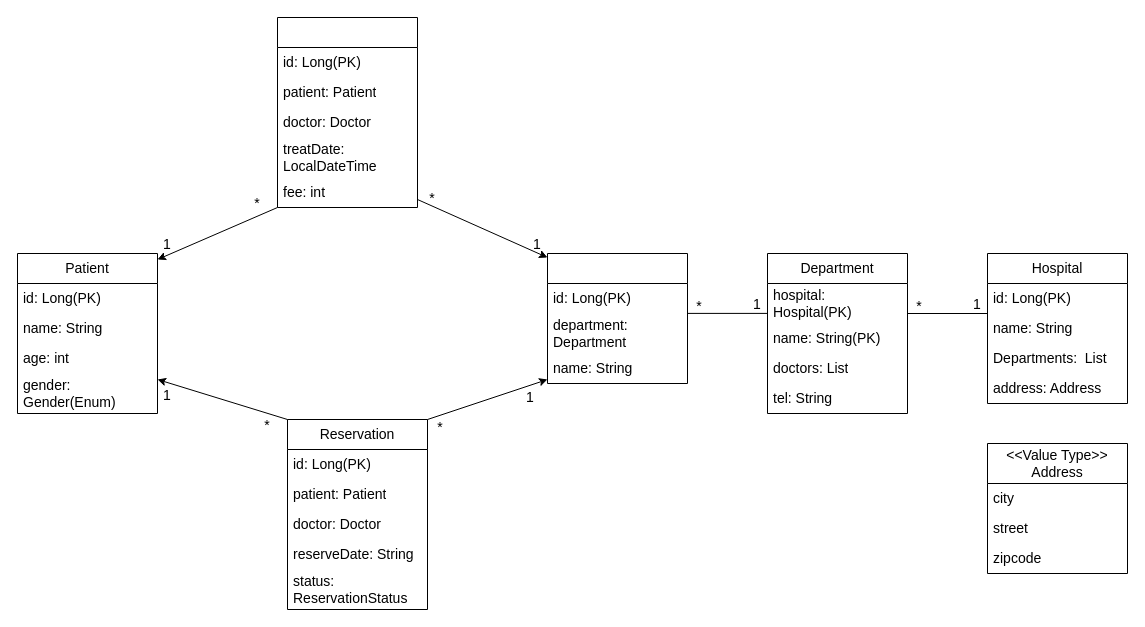
This 1145x627 diagram has some shape labels left out. Here are the shapes that lost their labels. From the top down, the box of each, then its label:
(276, 16, 418, 208): Treatment
(546, 252, 688, 384): Doctor
